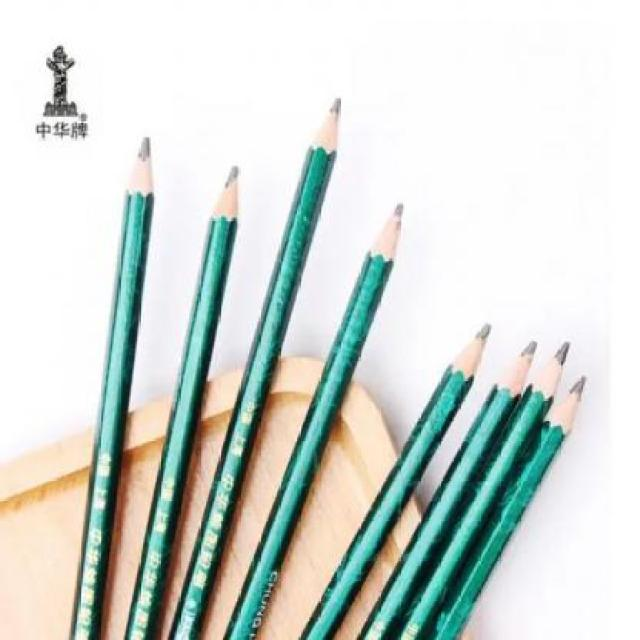pencil: (165, 91, 345, 640), (221, 191, 409, 640), (296, 318, 494, 640), (353, 332, 541, 640), (123, 159, 242, 640), (392, 334, 575, 640), (66, 131, 159, 639), (422, 370, 593, 640)
